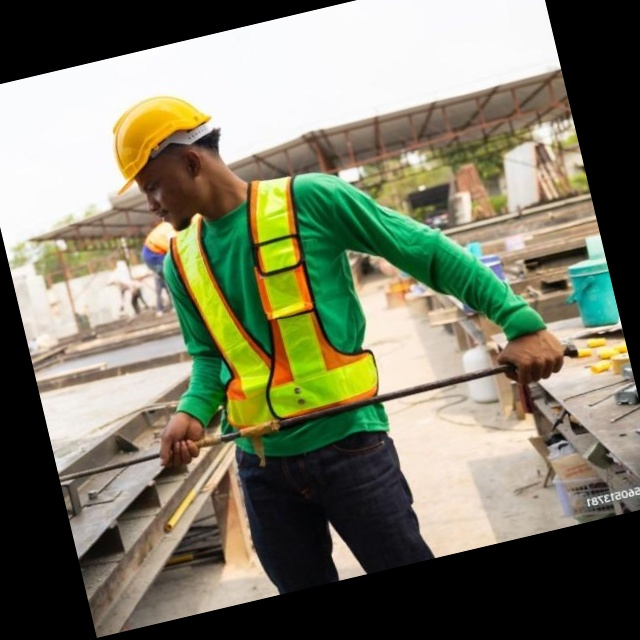Con_Chaleco: (162, 170, 381, 448)
